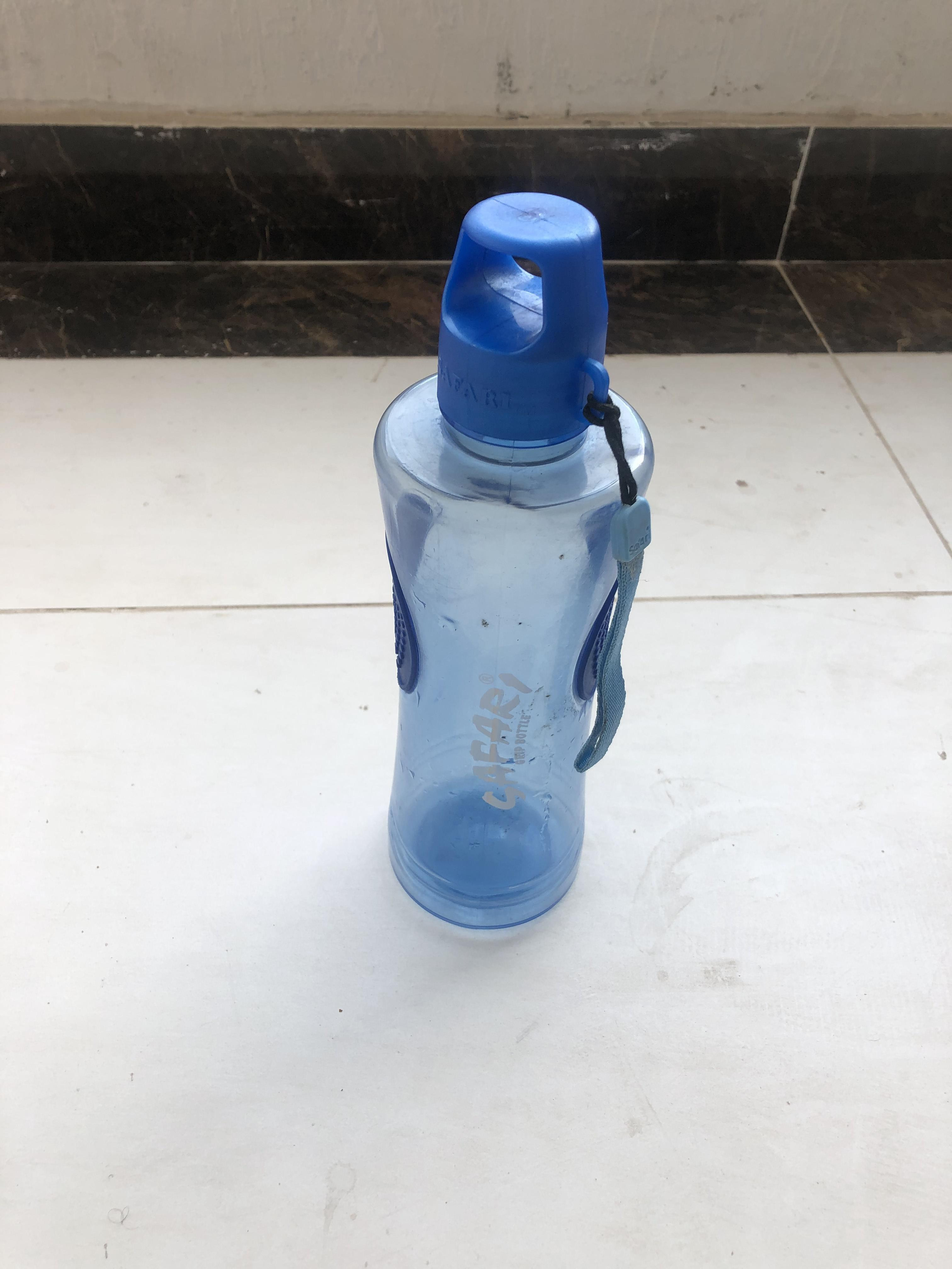gym bottle: (360, 174, 654, 932)
